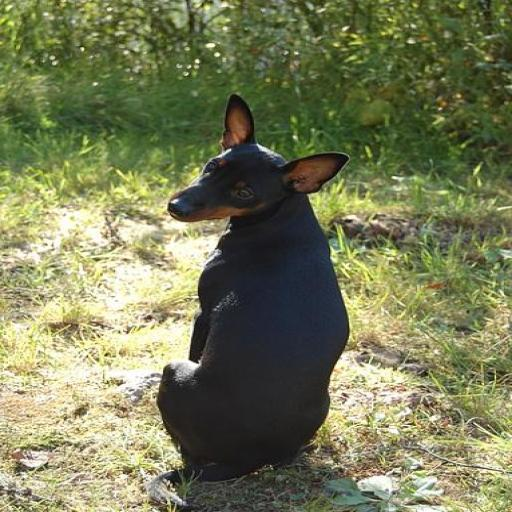dog_face: (161, 92, 350, 228)
